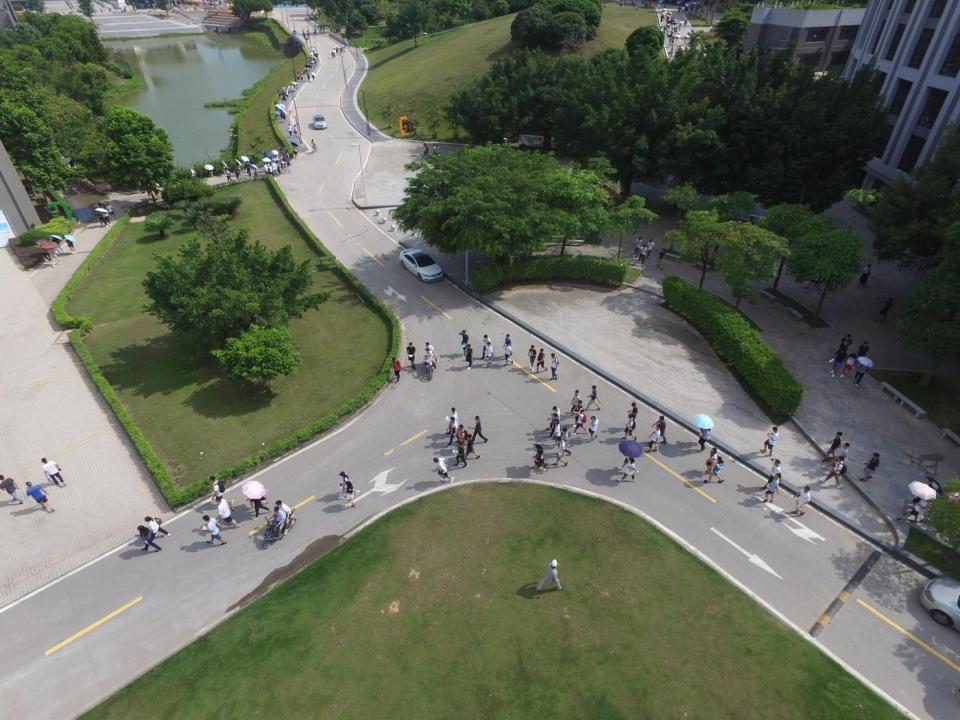car: (920, 578, 960, 630), (398, 248, 444, 283), (312, 114, 328, 130)
